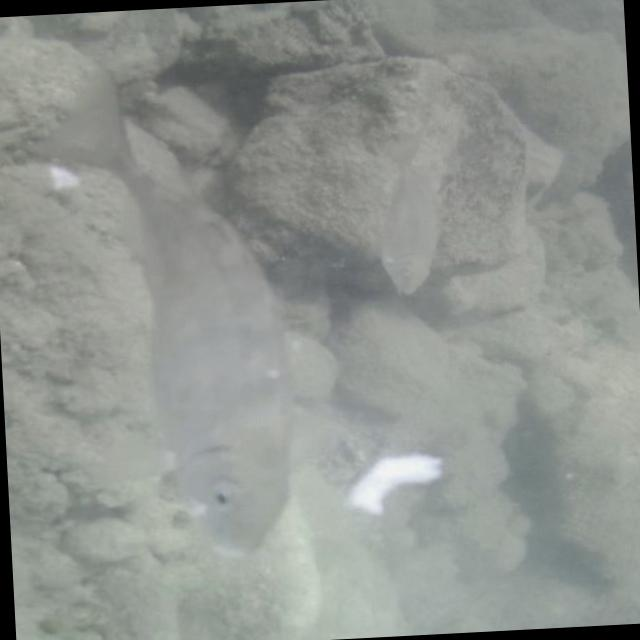Sokar Baligi: (13, 53, 338, 584)
